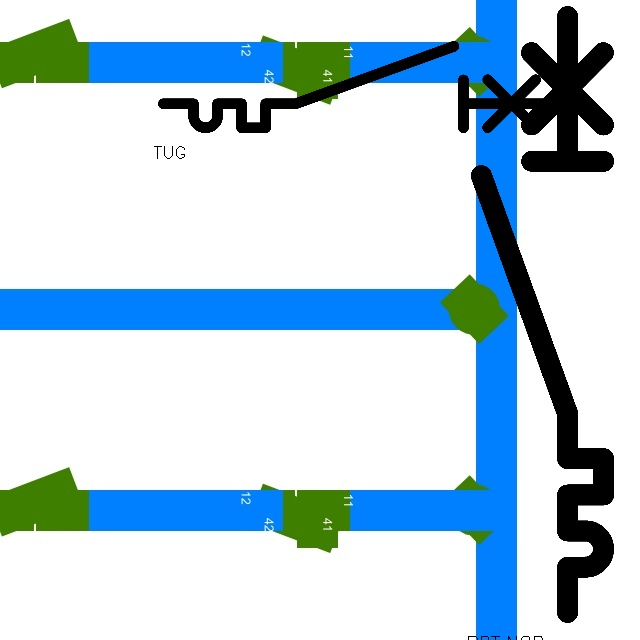interruptor_termomagnetico: (466, 1, 619, 628), (153, 36, 570, 138)
